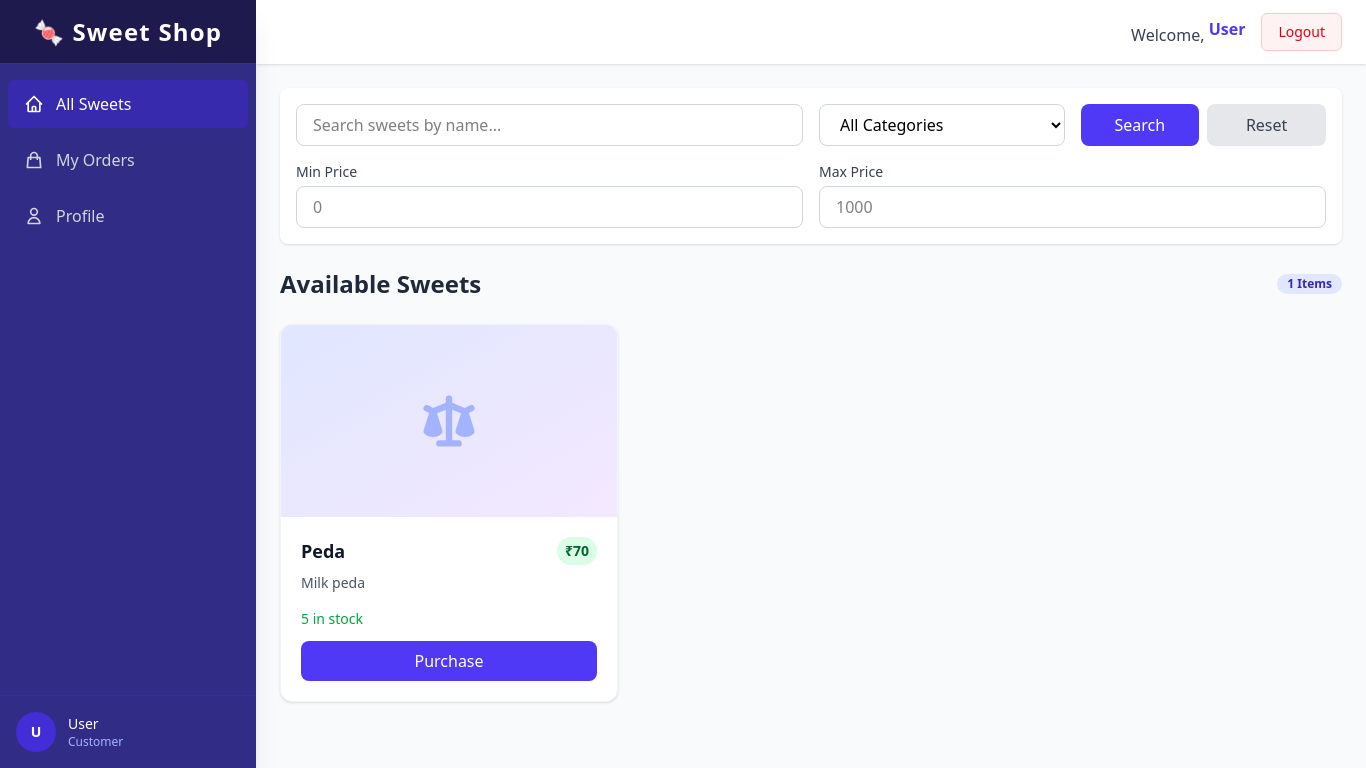
it: Dashboard Component › should update stock quantity after successful purchase
The width and height of the screenshot is (1366, 768).
Check: the text "5 in stock" is shown, box [301,609,363,629]
Click the button "Purchase": point(449, 661) [301,641,597,681]
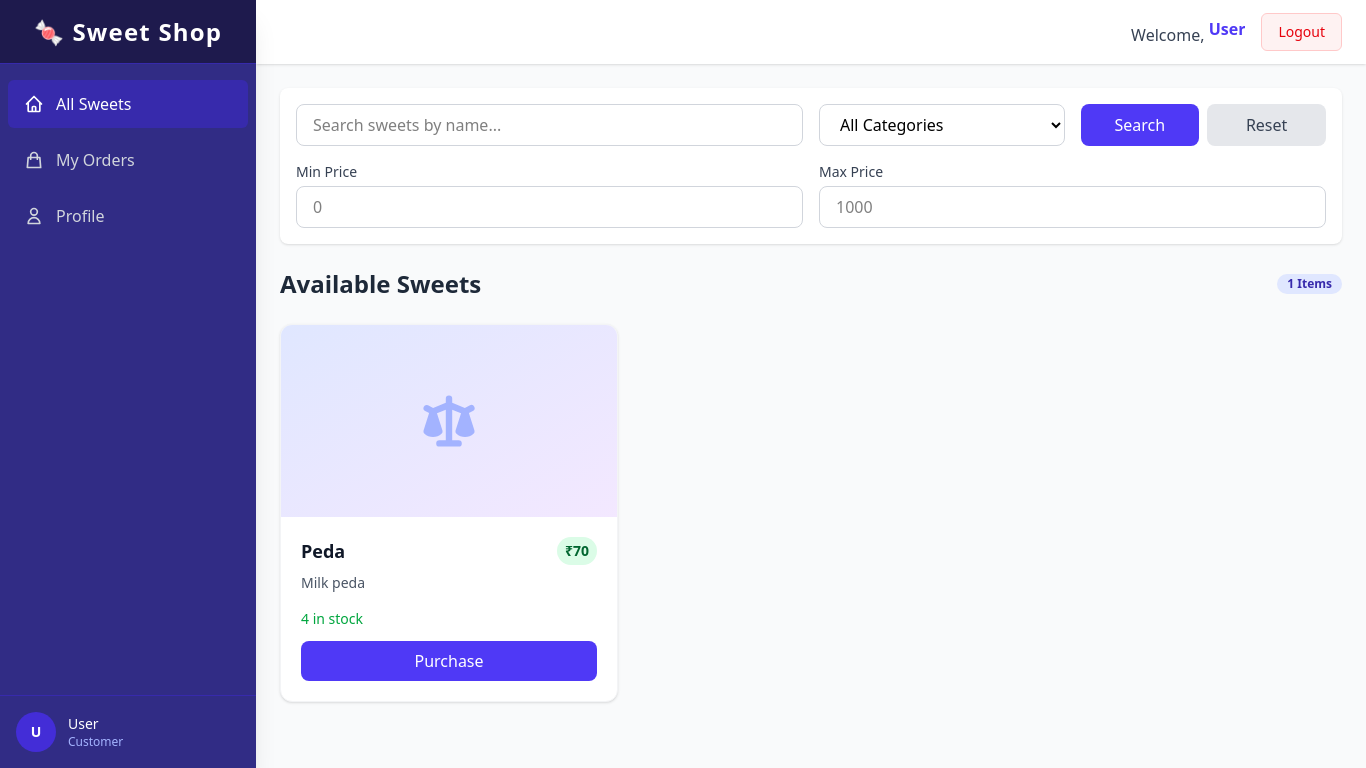
Check: the text "4 in stock" is shown, box [301,609,363,629]
